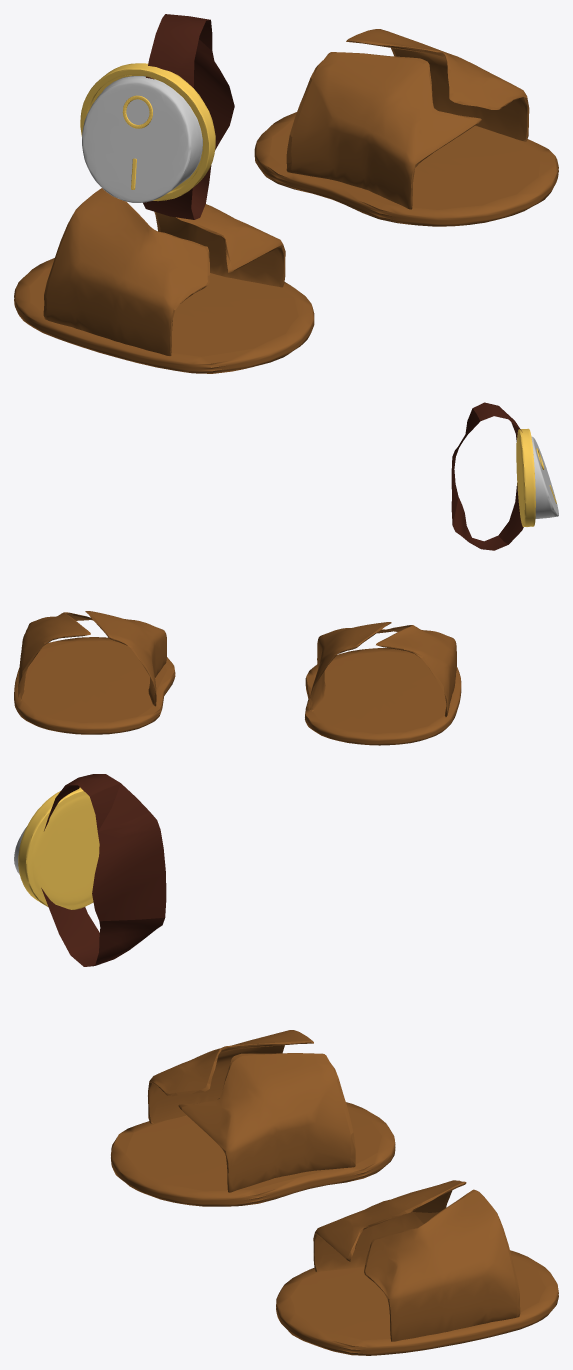
3 views of the same model, one above another, from view 1: azimuth 30°, elevation 25°; view 2: azimuth 150°, elevation 25°; view 3: azimuth 270°, elevation 25° (orthographic). The views are drawn at different scales.
Visible parts, largest first — view 1: Elec_AC_002, Cylinder, Elec_AC_003.001, Elec_AC_003; view 2: Cylinder, Elec_AC_002, Elec_AC_003.001, Elec_AC_003; view 3: Elec_AC_002, Cylinder, Elec_AC_003, Elec_AC_003.001.
Boxes of the visible parts, x1,y1,x2,y2 form: Elec_AC_002: (43, 29, 529, 355); Cylinder: (14, 112, 558, 373); Elec_AC_003.001: (80, 63, 215, 202); Elec_AC_003: (122, 14, 234, 219); Cylinder: (14, 637, 461, 745); Elec_AC_002: (18, 611, 456, 716); Elec_AC_003.001: (516, 428, 558, 526); Elec_AC_003: (451, 402, 556, 550); Elec_AC_002: (148, 1030, 520, 1341); Cylinder: (111, 1102, 558, 1355); Elec_AC_003: (41, 774, 166, 966); Elec_AC_003.001: (14, 787, 99, 909).
Bounding box in the file's own units: 106 × 88.76 × 62.48.
